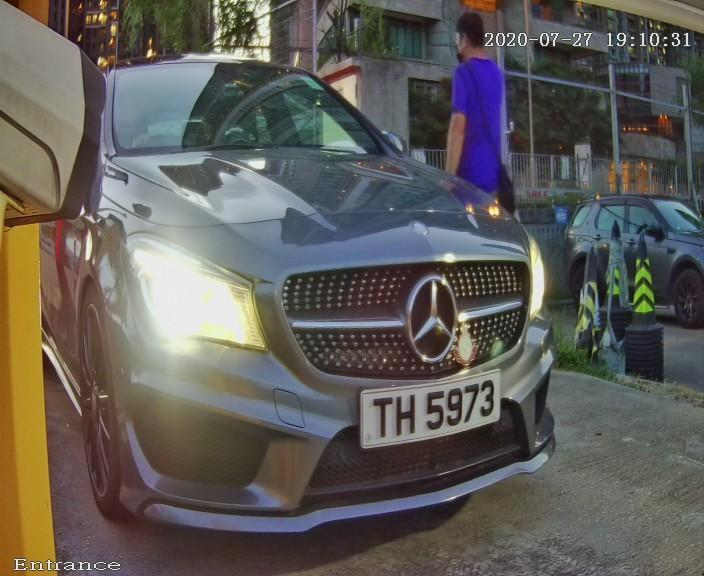privatecar: (67, 19, 579, 533)
